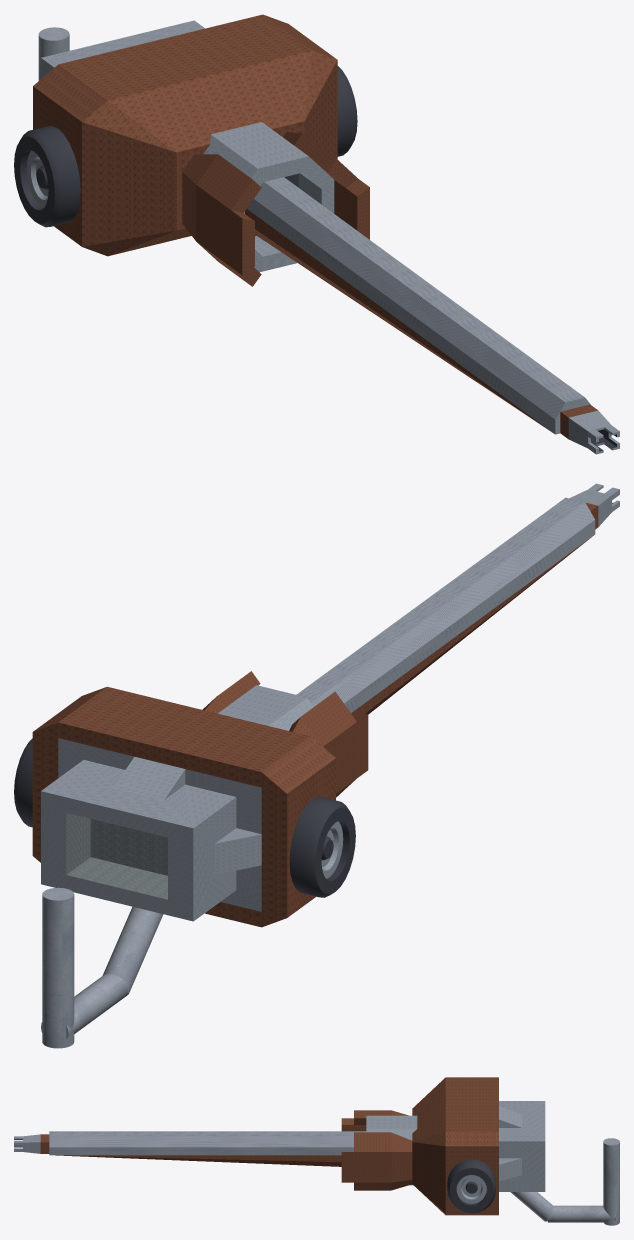
Rendered from turretBodyV2.fbx.
3 renders of one model, top to bottom at view 1: azimuth 30°, elevation 25°; view 2: azimuth 150°, elevation 25°; view 3: azimuth 270°, elevation 25°, orthographic. The views are drawn at different scales.
Visible parts, largest first — view 1: mergedBlocks; view 2: mergedBlocks; view 3: mergedBlocks.
Boxes of the visible parts, x1=… form: mergedBlocks: x1=14, y1=14, x2=619, y2=454; mergedBlocks: x1=14, y1=483, x2=619, y2=1048; mergedBlocks: x1=14, y1=1077, x2=619, y2=1225.
Bounding box in the file's own units: 21.33 × 14.75 × 68.43.
